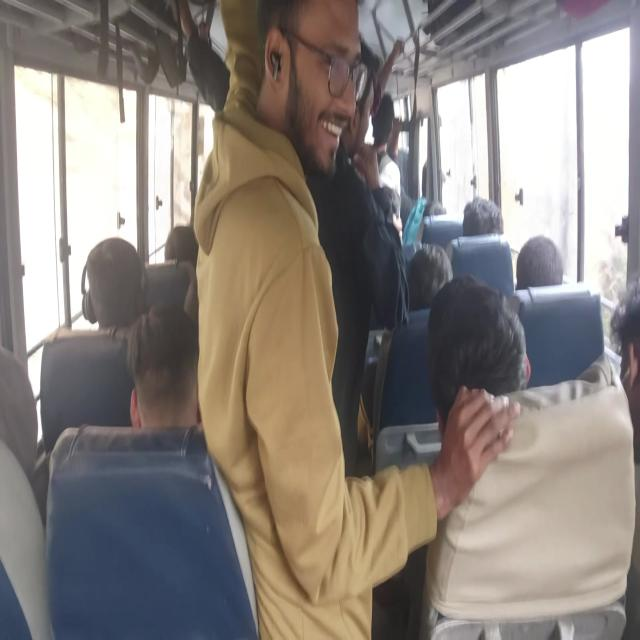person: (429, 280, 514, 427), (260, 17, 346, 159), (134, 313, 212, 437), (0, 351, 53, 499), (84, 218, 156, 324), (322, 27, 378, 155), (614, 293, 640, 516), (506, 233, 564, 295), (408, 234, 453, 312), (164, 222, 208, 285), (376, 79, 406, 158), (460, 188, 498, 239), (412, 141, 446, 192), (418, 186, 446, 223)
